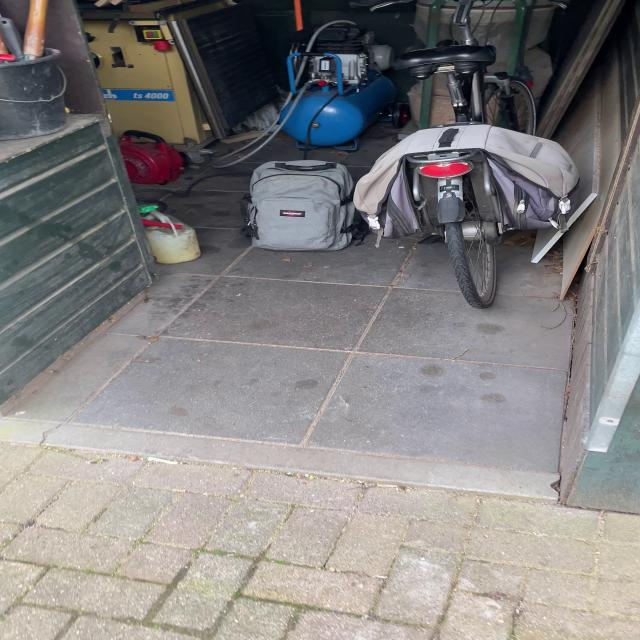backpack: (234, 156, 372, 256)
